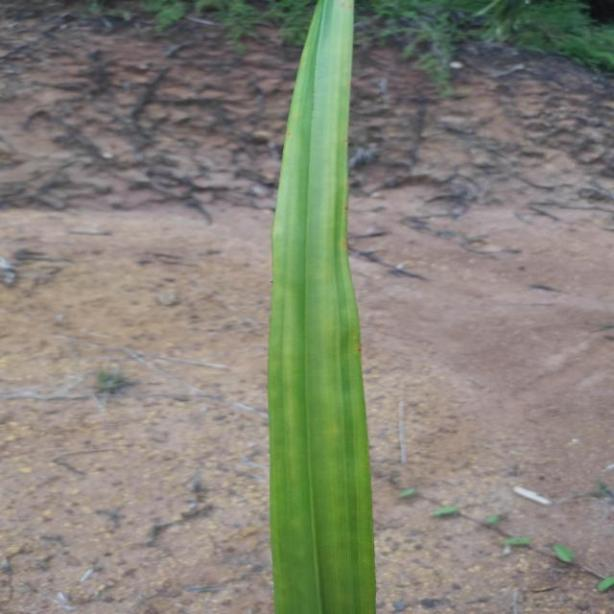nitrogen: (264, 0, 364, 614)
